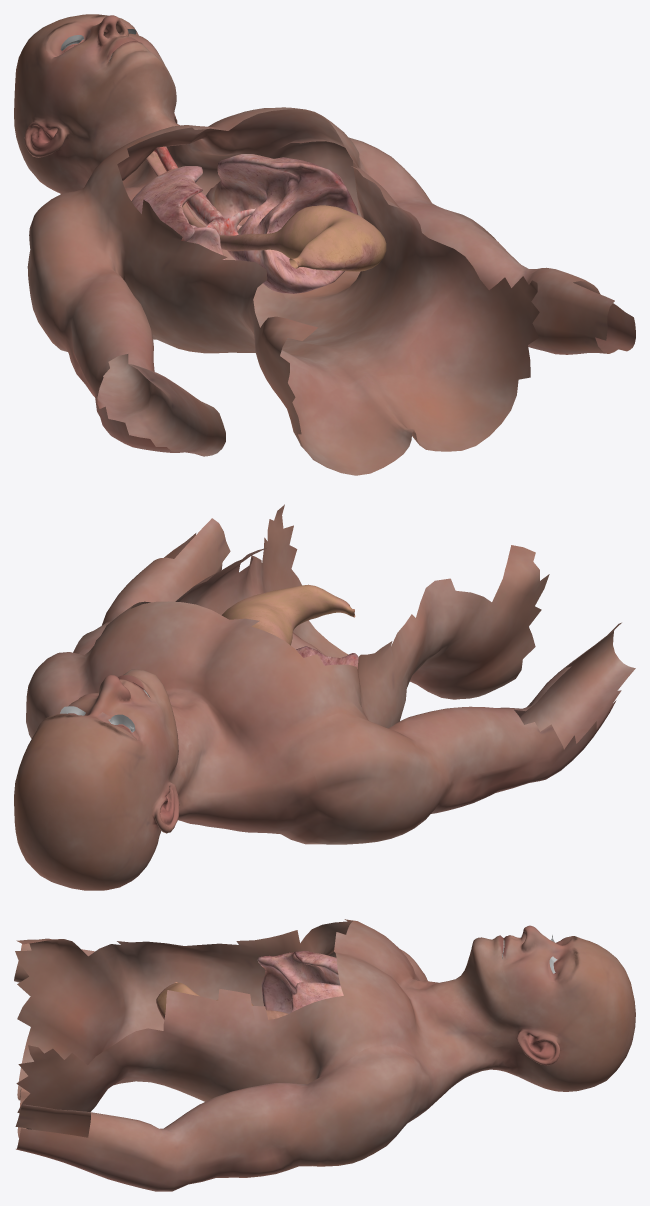
File: Modelo.fbx
3 views of the same model, one above another, from view 1: azimuth 30°, elevation 25°; view 2: azimuth 150°, elevation 25°; view 3: azimuth 270°, elevation 25° (orthographic). The views are drawn at different scales.
Visible parts, largest first — view 1: HumanSkin, Systems; view 2: HumanSkin, Systems; view 3: HumanSkin, Systems.
Boxes of the visible parts, bbox=[...] form: HumanSkin: bbox=[14, 14, 635, 475]; Systems: bbox=[131, 146, 386, 293]; HumanSkin: bbox=[14, 504, 635, 890]; Systems: bbox=[222, 584, 358, 668]; HumanSkin: bbox=[14, 919, 635, 1191]; Systems: bbox=[156, 951, 343, 1019].
Bounding box in the file's own units: 58.56 × 27.28 × 80.51.
